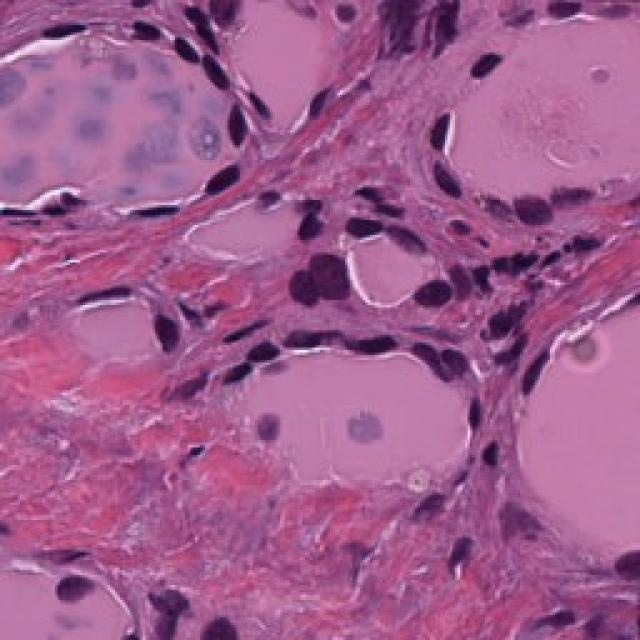normal: (485, 300, 580, 408), (445, 33, 516, 106), (490, 178, 561, 247), (30, 0, 102, 58), (196, 139, 256, 206), (340, 323, 409, 381), (413, 326, 478, 386), (207, 97, 272, 155), (234, 327, 289, 393), (187, 41, 238, 100), (416, 155, 464, 208)
